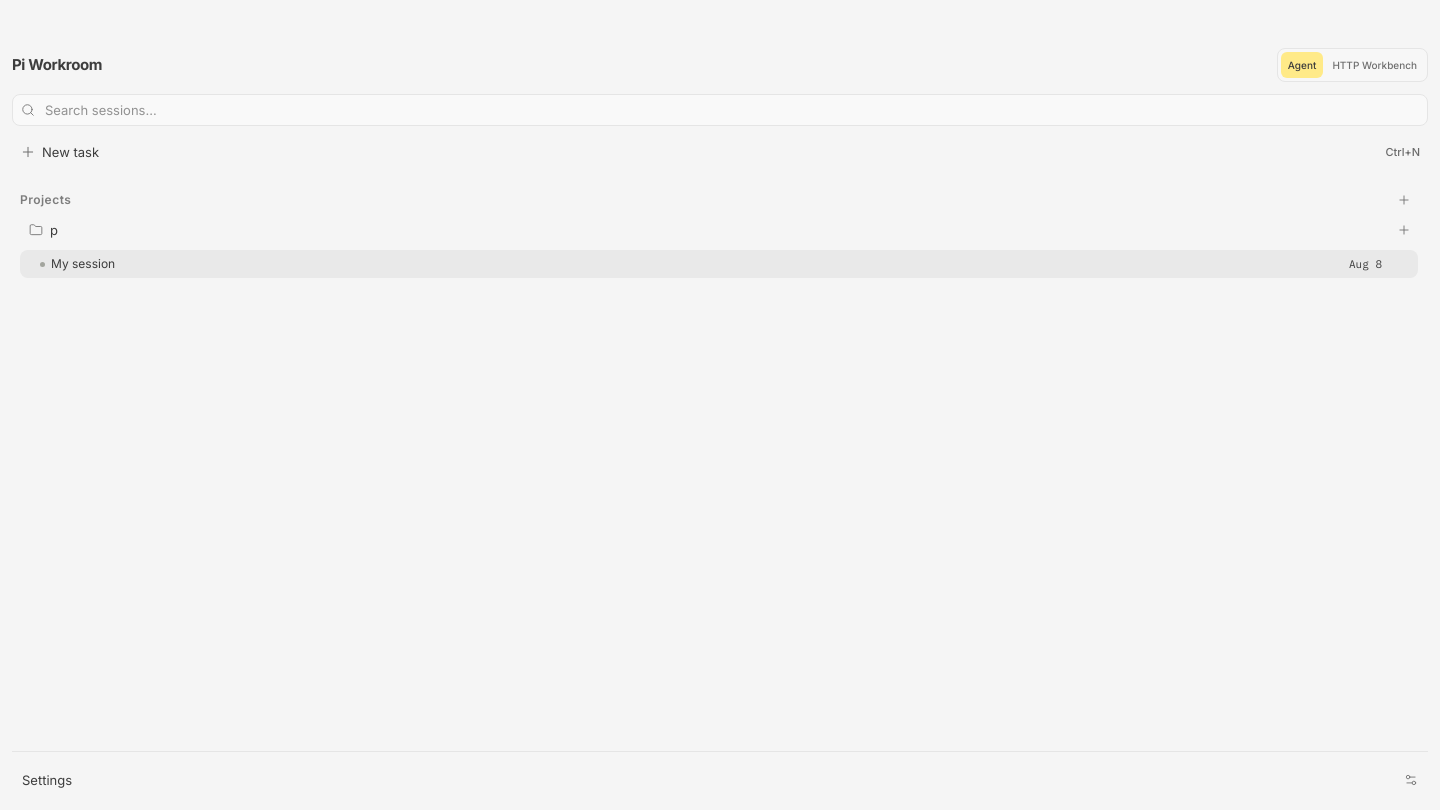
Test: SessionSidebar › project row toggles sessions without a leading expand button
expect the text "My session" is shown: met, box left=51, top=256, right=115, bottom=271
expect the 4th icon is shown: met, box left=28, top=222, right=44, bottom=238
Click the button named "Select project p".
click(36, 230)  # box left=20, top=214, right=1388, bottom=246
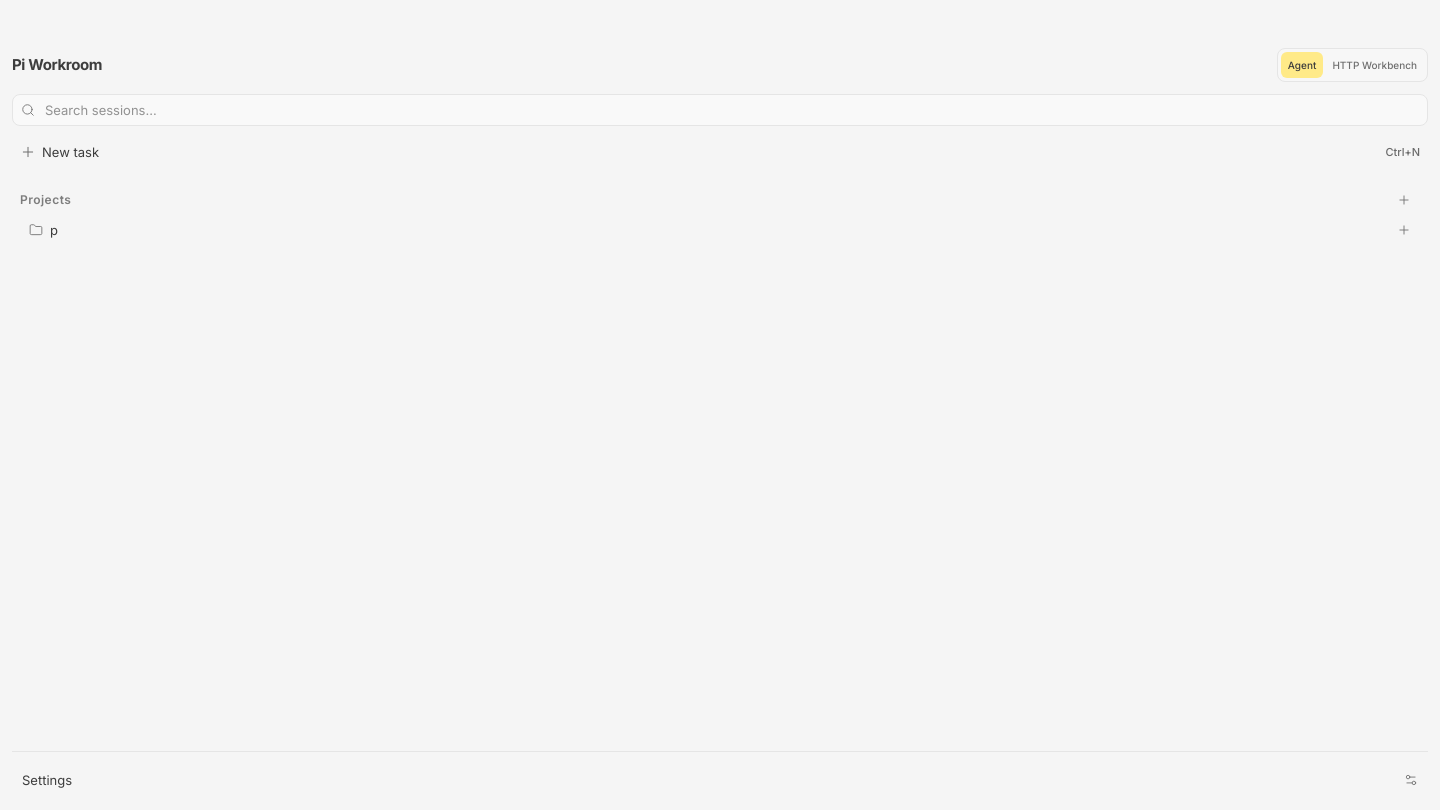
expect the button "My session" is gone: met
Click the button named "Select project p".
click(36, 230)  # box left=20, top=214, right=1388, bottom=246
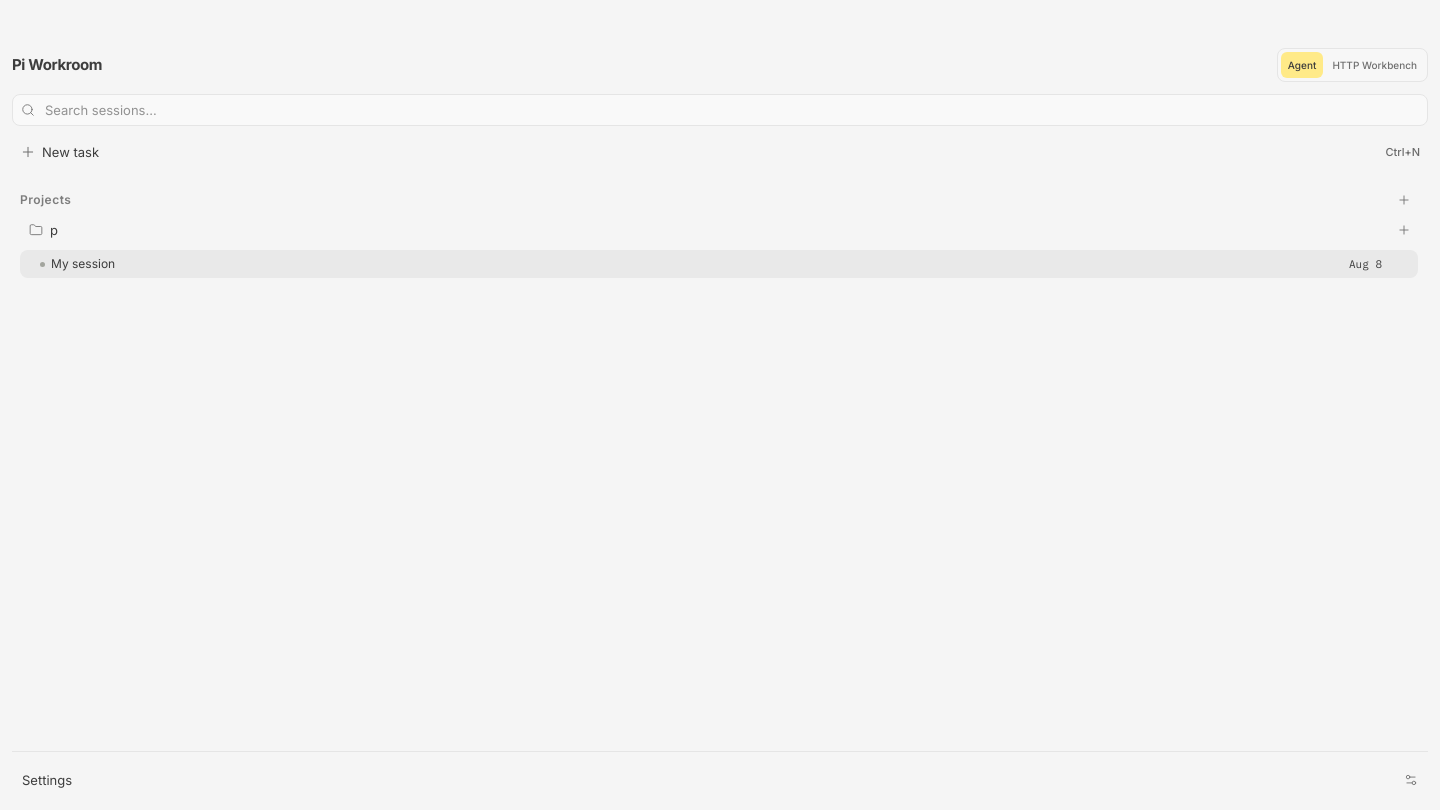
expect the text "My session" is shown: met, box left=51, top=256, right=115, bottom=271
